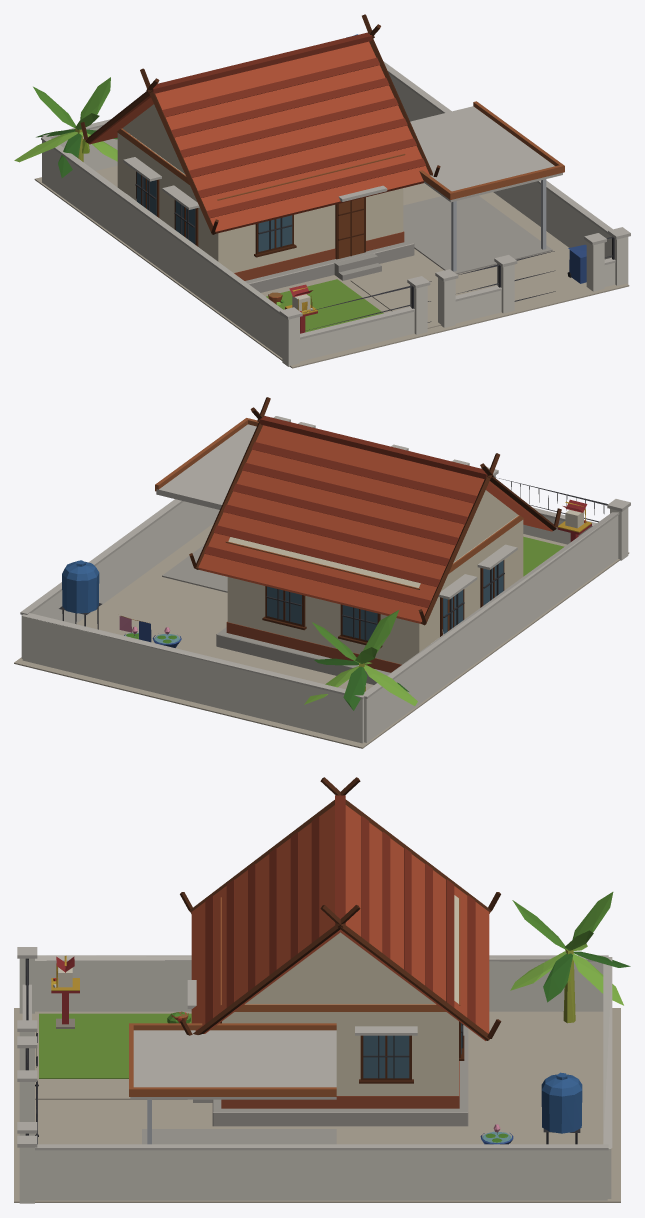
File: house12_1.glb
3 views of the same model, one above another, from view 1: azimuth 30°, elevation 25°; view 2: azimuth 150°, elevation 25°; view 3: azimuth 270°, elevation 25° (orthographic). The views are drawn at different scales.
Parts seen in each view (by area): view 1: body, windows; view 2: body, windows; view 3: body, windows.
Part boxes in pixels (x1,y1,x2,y2): body: [14, 14, 630, 368]; windows: [136, 172, 292, 251]; body: [14, 397, 630, 748]; windows: [267, 560, 503, 640]; body: [14, 777, 630, 1203]; windows: [363, 1023, 461, 1078].
Bounding box in the file's own units: 13.38 × 6.94 × 16.16.
